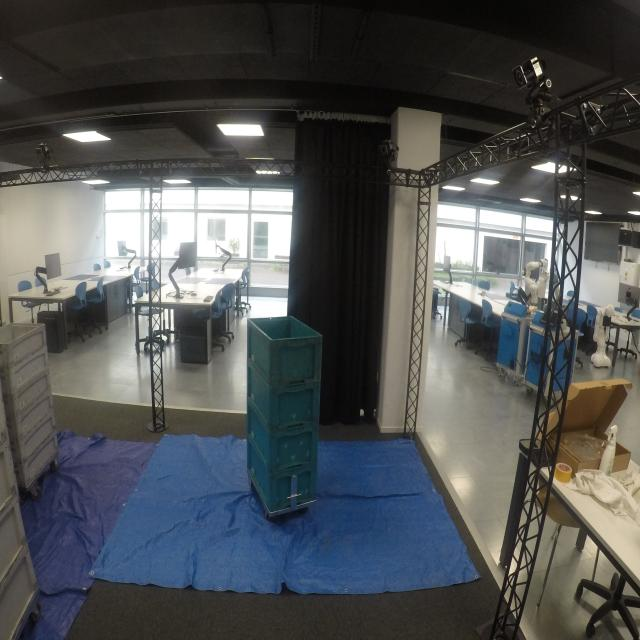BoxB4: (245, 434, 318, 511), (244, 361, 320, 429), (246, 400, 319, 470), (248, 314, 321, 383)
